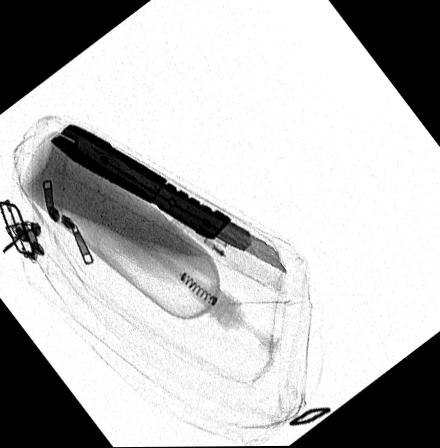Knife: (49, 123, 287, 276)
